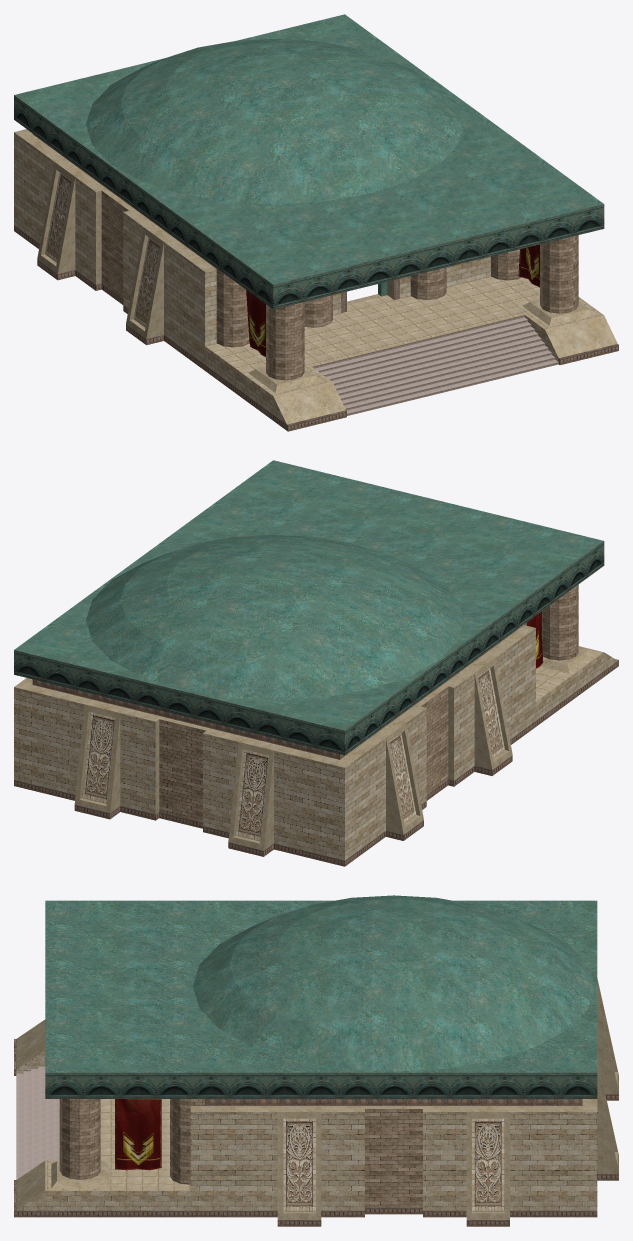
File: mun_nboo_guild_university_s01_r0_exterior_mesh_exterior_l0.fbx
3 views of the same model, one above another, from view 1: azimuth 30°, elevation 25°; view 2: azimuth 150°, elevation 25°; view 3: azimuth 270°, elevation 25° (orthographic). The views are drawn at different scales.
Parts seen in each view (by area): view 1: mesh_node; view 2: mesh_node; view 3: mesh_node.
Part boxes in pixels (left/top/right/bottom): mesh_node: left=14, top=14, right=618, bottom=431; mesh_node: left=14, top=460, right=618, bottom=866; mesh_node: left=14, top=895, right=618, bottom=1226.
Bounding box in the file's own units: 38.75 × 18.75 × 52.08.
